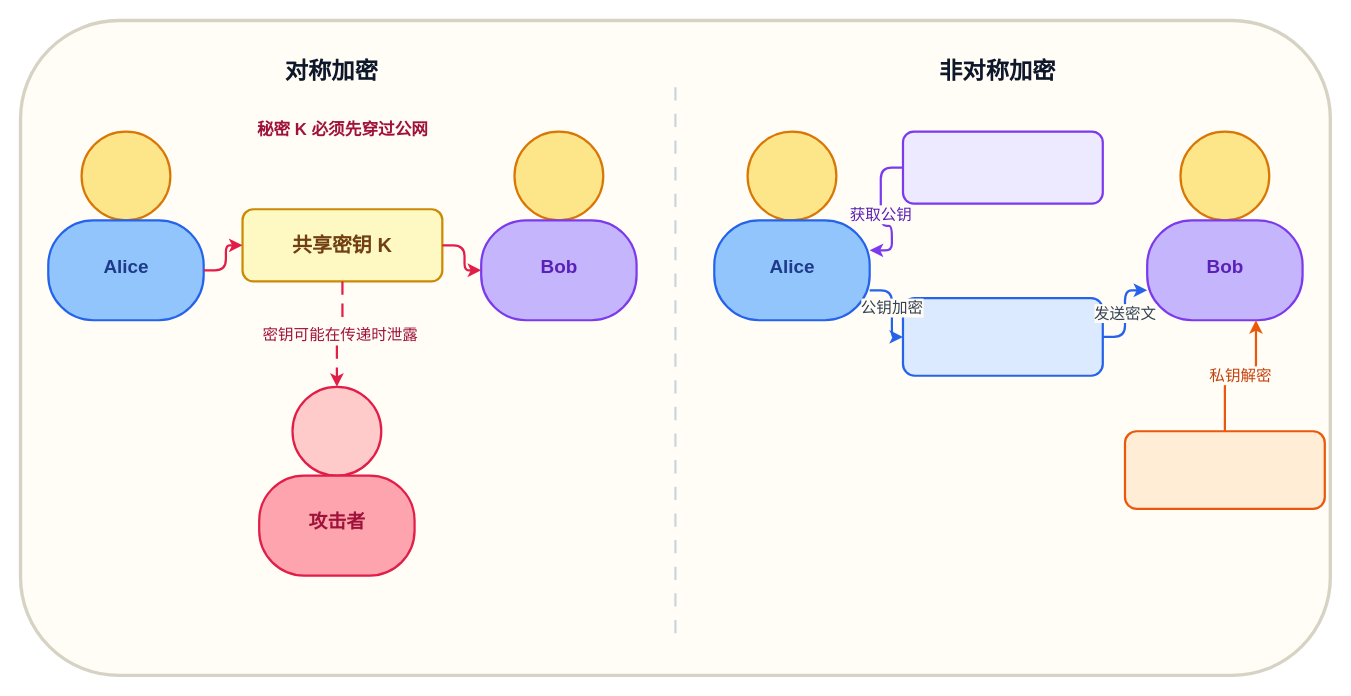
The diagram is 1351 pixels wide and 696 high, and some of its shapes have lost their labels. Here are the shapes that lost their labels. From the top down, the centre of each, then its label:
At point (1002, 167): "Bob 的公钥 可以公开".
At point (1002, 336): "密文 8F 2A 91 6C …".
At point (1224, 469): "Bob 的私钥 只留在本地".
